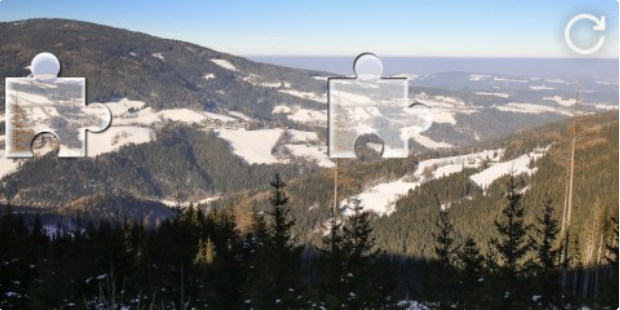target: (327, 52, 434, 158)
